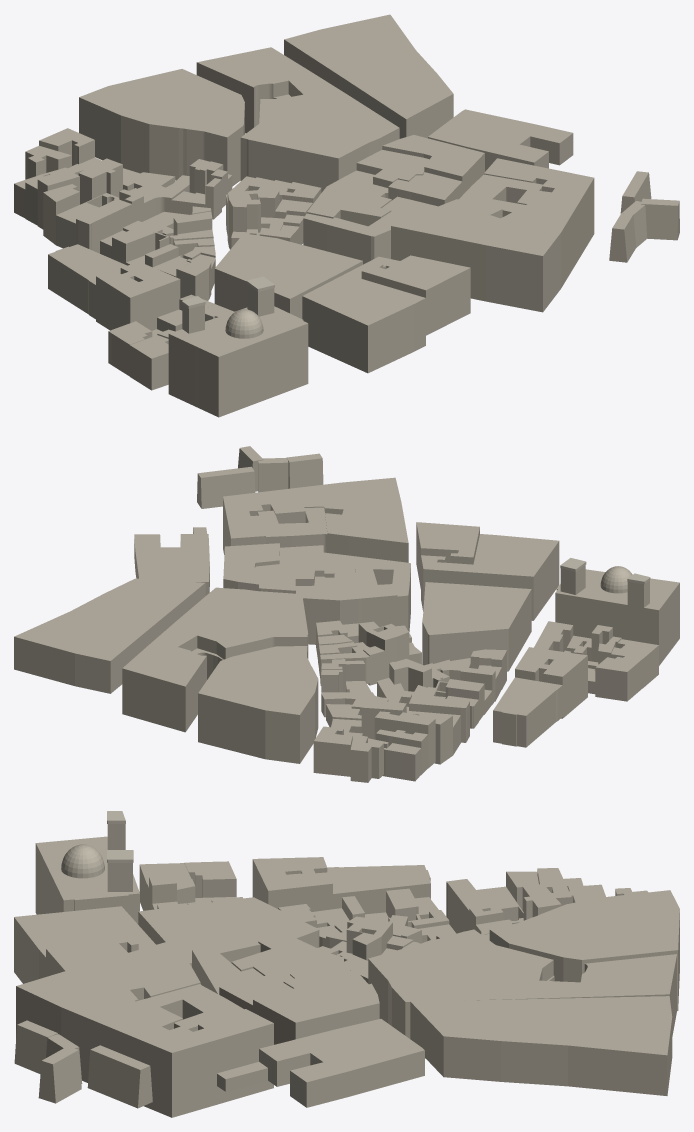
The model's file is bormla_61_26_mid.glb.
3 renders of one model, top to bottom at view 1: azimuth 30°, elevation 25°; view 2: azimuth 150°, elevation 25°; view 3: azimuth 270°, elevation 25°, orthographic. The views are drawn at different scales.
Parts seen in each view (by area): view 1: geometry_0; view 2: geometry_0; view 3: geometry_0.
Part boxes in pixels (bbox=[...]): geometry_0: bbox=[14, 14, 679, 417]; geometry_0: bbox=[14, 446, 679, 782]; geometry_0: bbox=[14, 811, 679, 1117].
Bounding box in the file's own units: 187 × 34.69 × 186.
